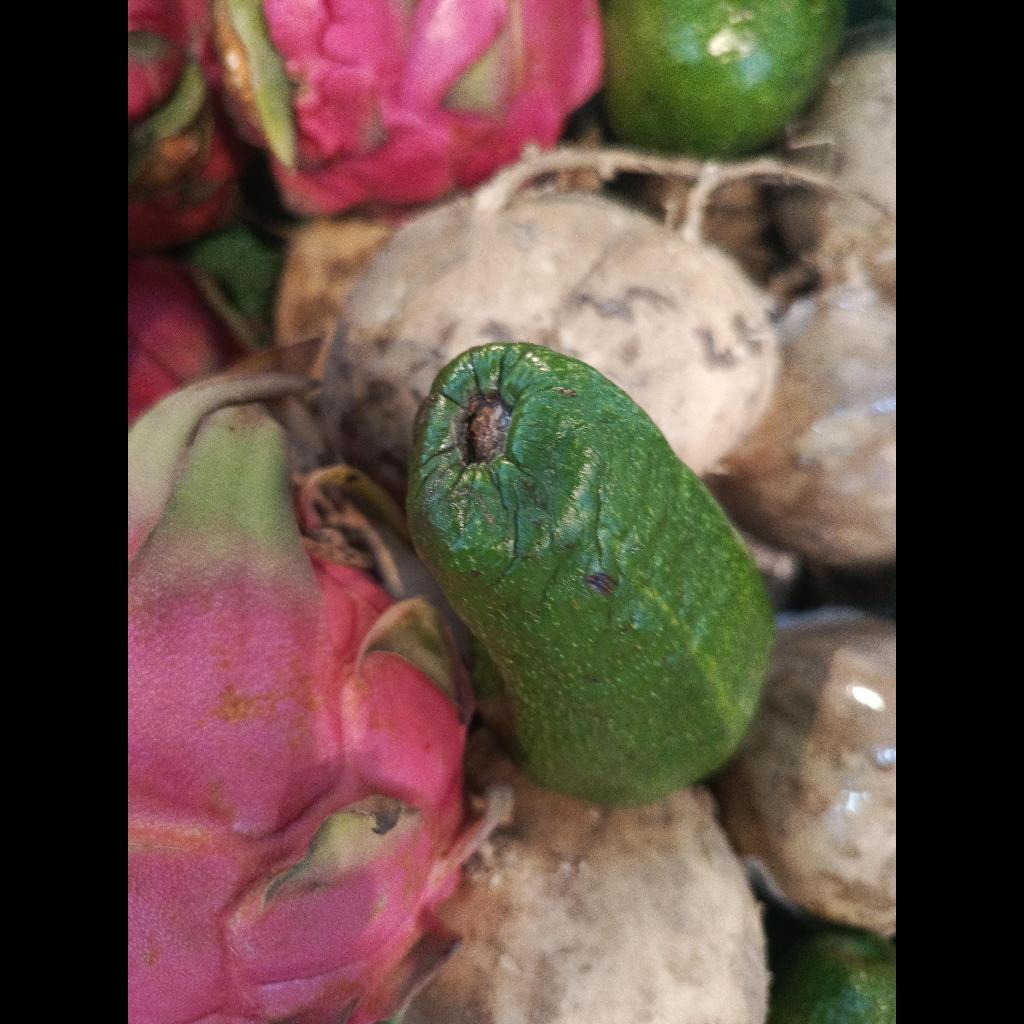pudricion_peduncular: (407, 343, 773, 807)
